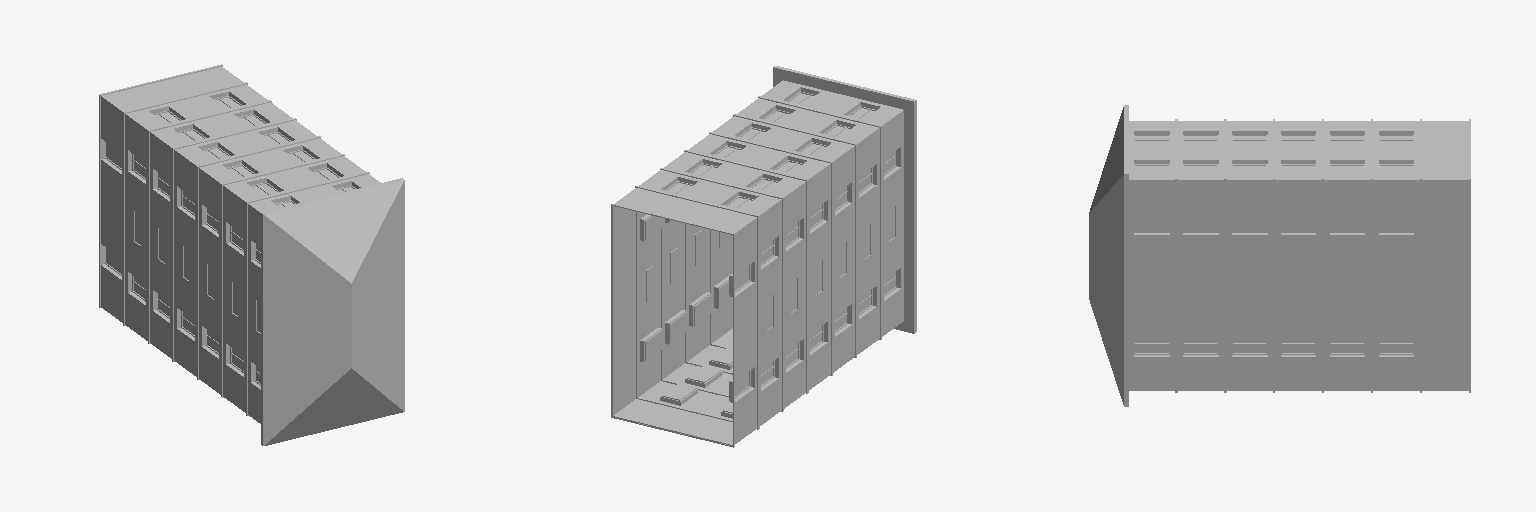
Rendered from building4.obj.
3 views of the same model, side by side, from view 1: azimuth 30°, elevation 25°; view 2: azimuth 150°, elevation 25°; view 3: azimuth 270°, elevation 25° (orthographic).
Parts seen in each view (by area): view 1: building_4; view 2: building_4; view 3: building_4.
Boxes of the visible parts, <box> form: building_4: <box>99,64,404,445</box>; building_4: <box>611,66,916,447</box>; building_4: <box>1089,105,1470,406</box>.
Size of the model in its own units: 7 by 11 by 16.41.